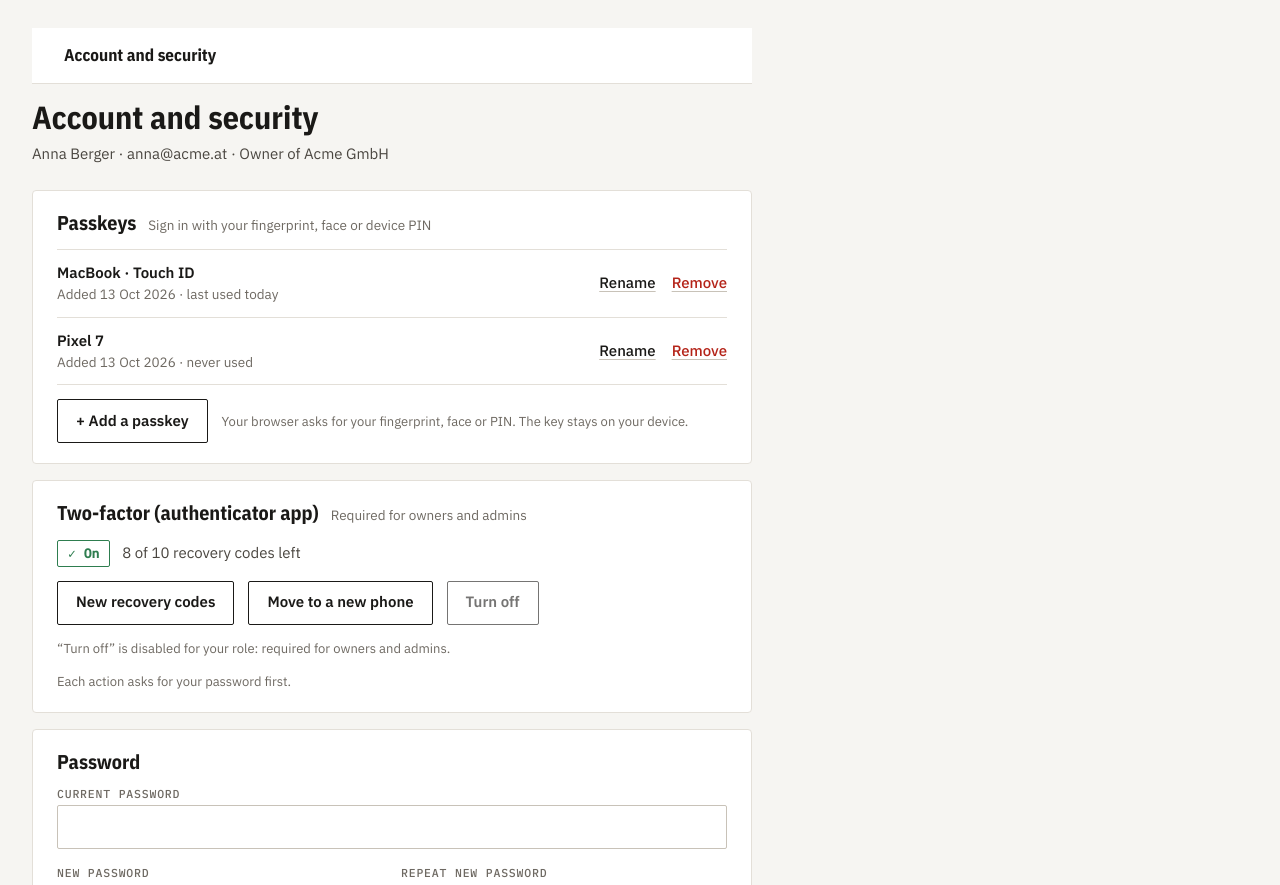
AccountSecurityPage (W4) › removes a passkey only after the password
Click the button with aria-label "Remove Pixel 7": (699, 351) left=672, top=340, right=727, bottom=362
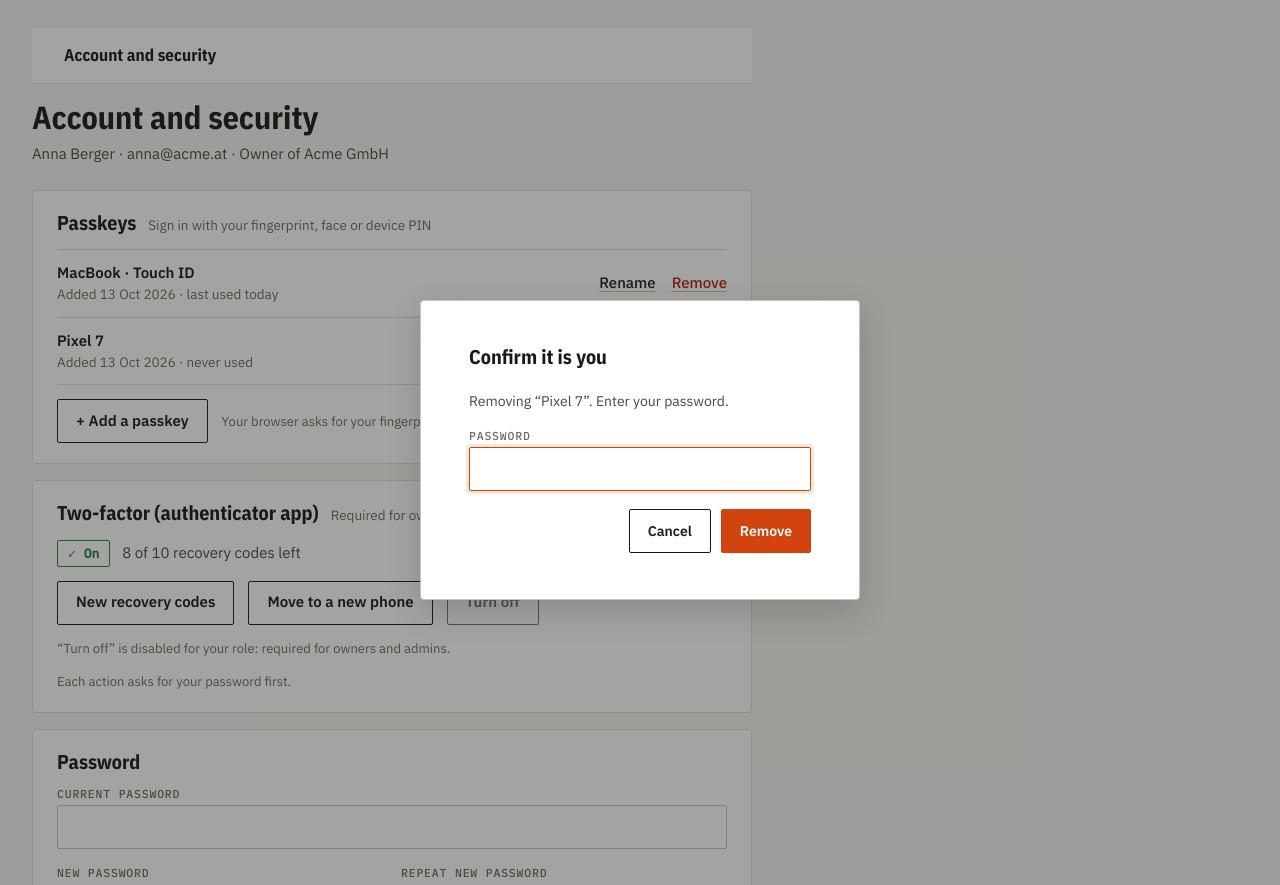
In the password field labelled "Password": (640, 469) left=469, top=447, right=811, bottom=491, type "wrong"
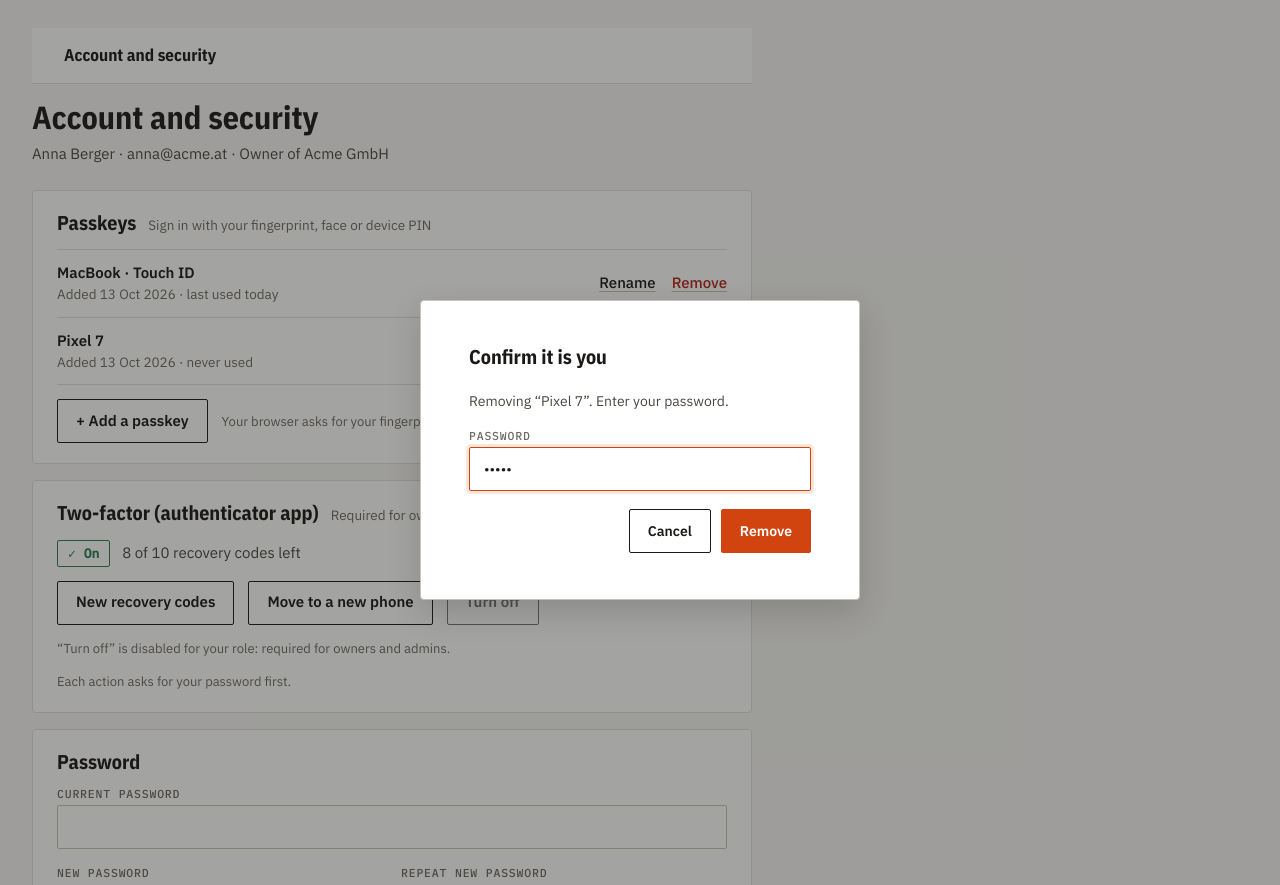
Submit the form labelled "password", box left=469, top=399, right=811, bottom=553
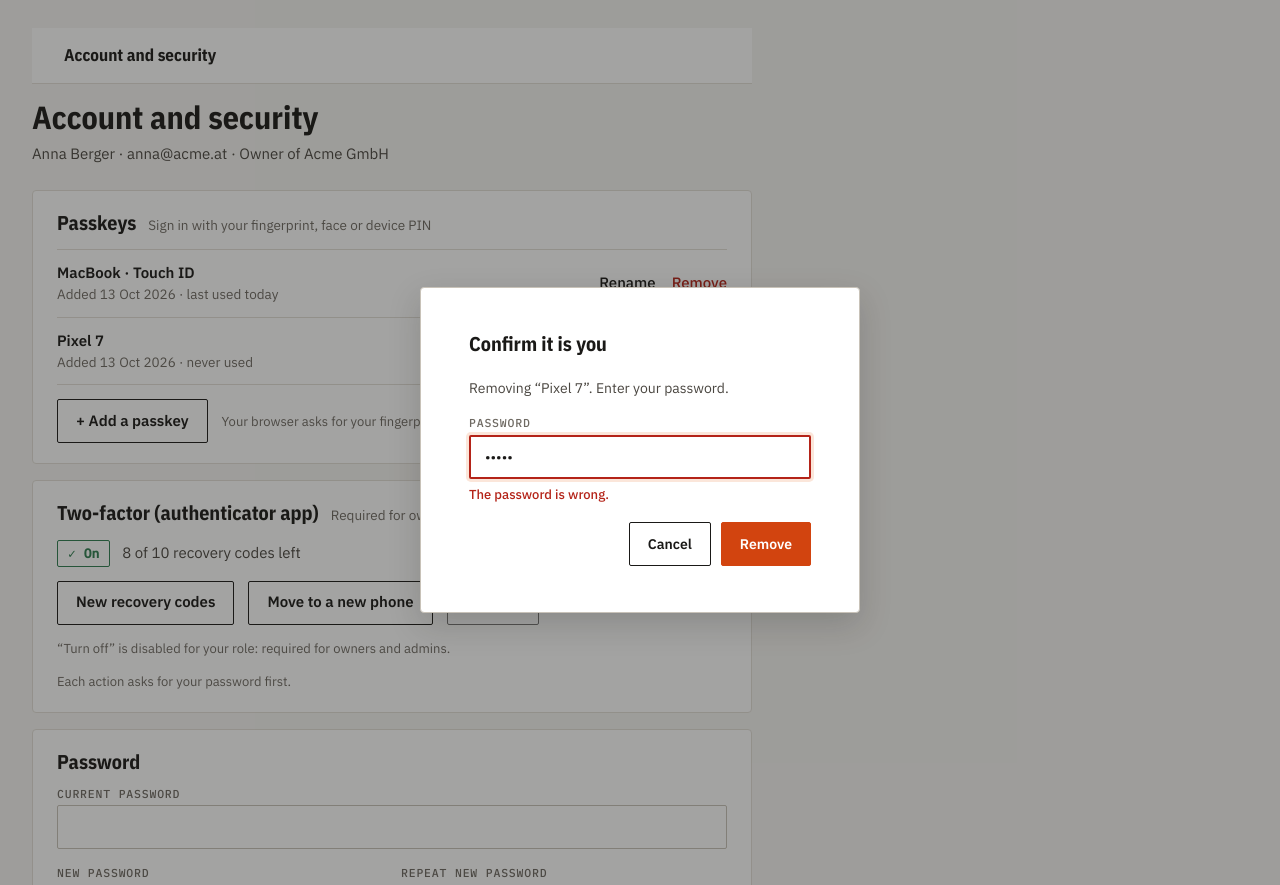
Check: the text "The password is wrong." is shown, box left=469, top=486, right=609, bottom=502
In the password field labelled "Password": (640, 456) left=469, top=434, right=811, bottom=478, type "correct horse battery"
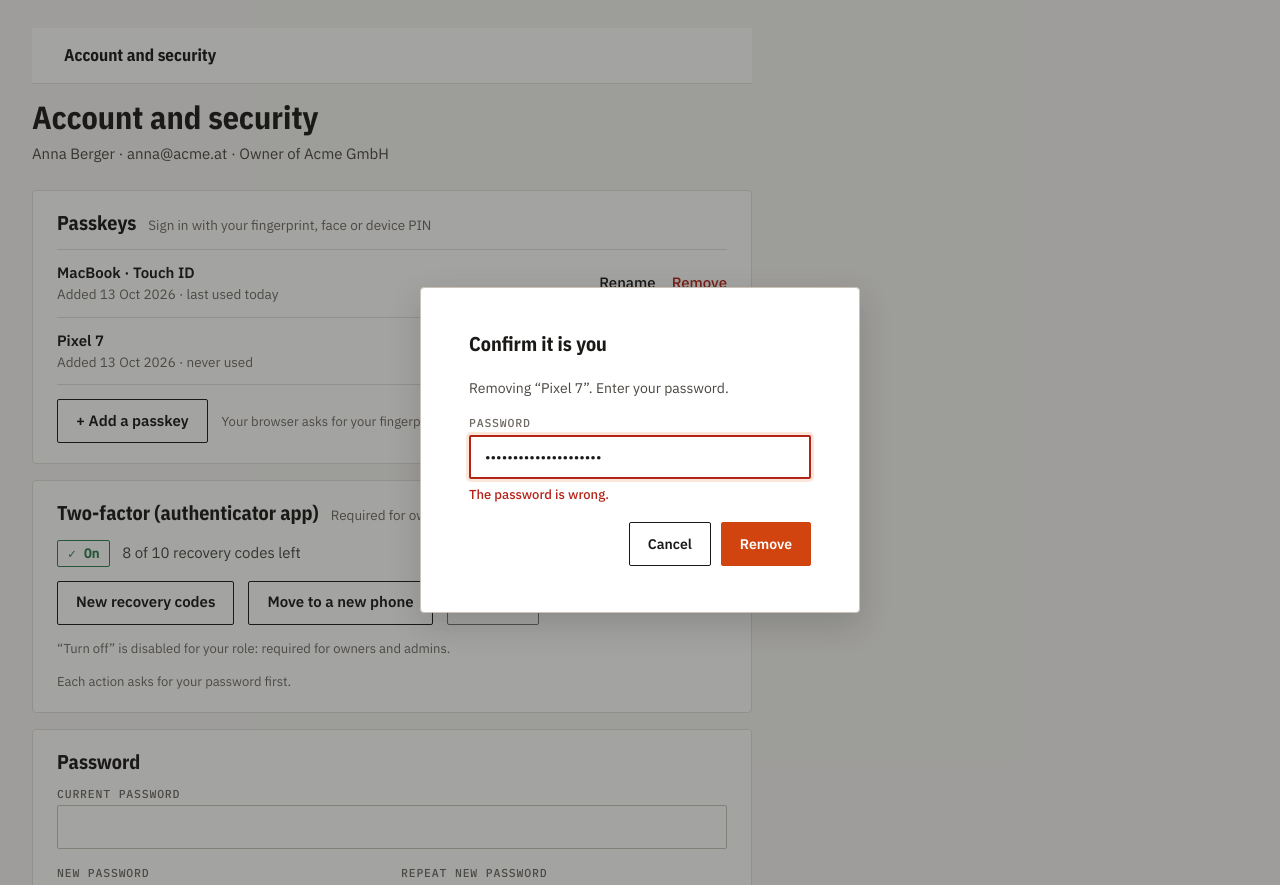
Submit the form labelled "password", box left=469, top=386, right=811, bottom=566
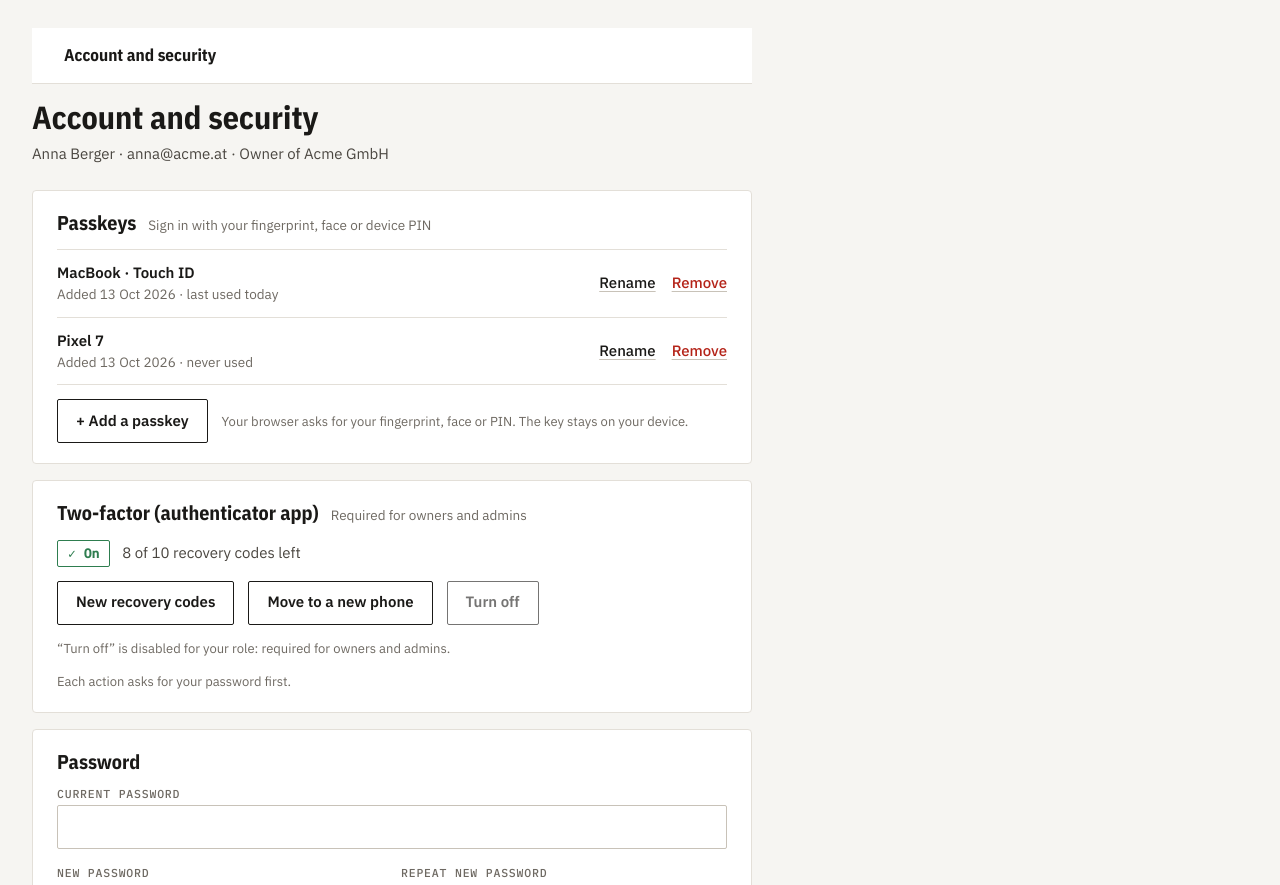
Check: the dialog is gone
